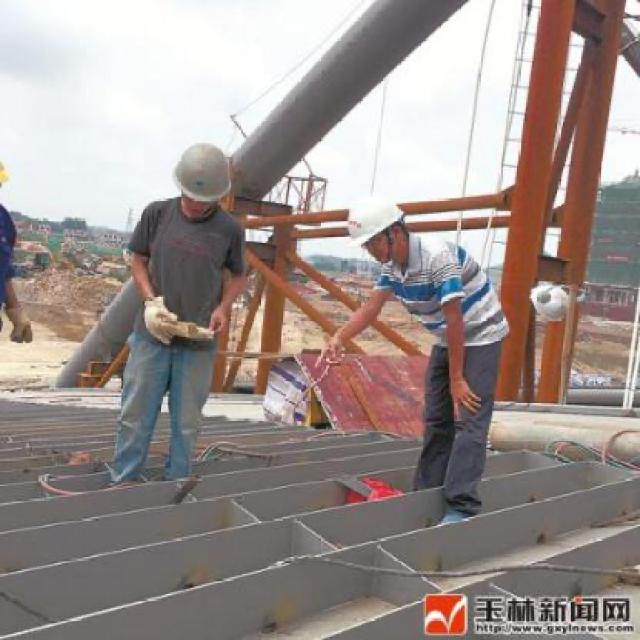helmet: (338, 183, 417, 271), (168, 142, 232, 223)
